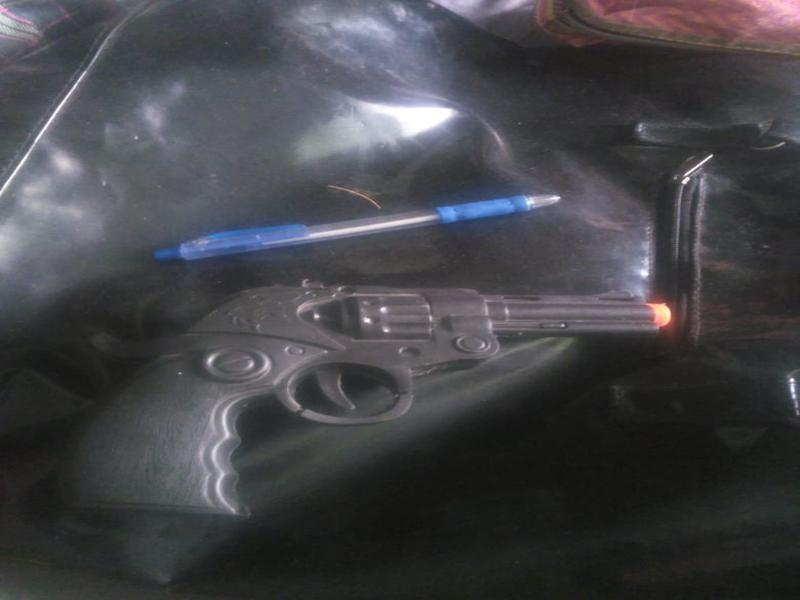gun: (52, 267, 707, 520)
